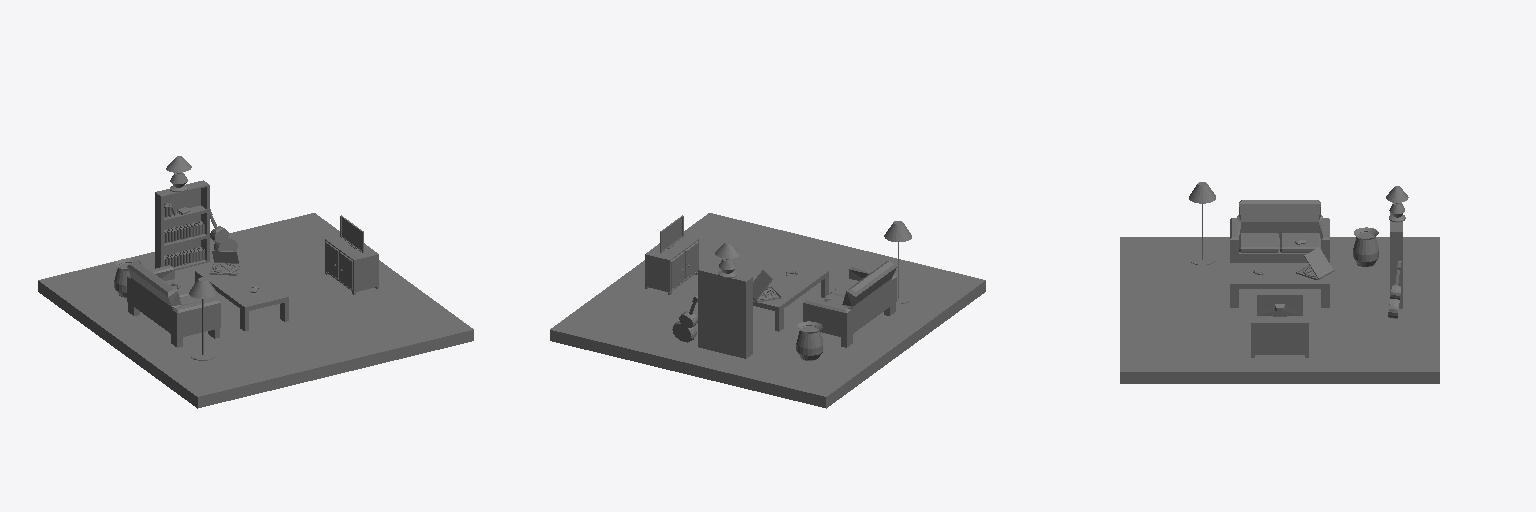
Rendered from LivingRoom.obj.
3 renders of one model, left to right at view 1: azimuth 30°, elevation 25°; view 2: azimuth 150°, elevation 25°; view 3: azimuth 270°, elevation 25°, orthographic.
Parts seen in each view (by area): view 1: pCube51, pCube4, pCube6, pCube5, pCube11, pCylinder2, pCylinder25, pCylinder1, pPipe5, pCylinder41; view 2: pCube51, pCube6, pCube4, pCube11, pCube5, pCylinder3, pCylinder41, pCylinder2, pCylinder1, pCylinder25, pPipe5; view 3: pCube51, pCube4, pCube5, pCube11, pPipe5, pCylinder3, pCube6, pCylinder2, pCylinder25, pCylinder1.
Part boxes in pixels (bbox=[...]): pCube51: bbox=[38, 213, 473, 408]; pCube4: bbox=[127, 261, 220, 347]; pCube6: bbox=[155, 180, 209, 269]; pCube5: bbox=[195, 261, 288, 331]; pCube11: bbox=[325, 236, 378, 294]; pCylinder2: bbox=[189, 277, 216, 360]; pCylinder25: bbox=[209, 250, 239, 275]; pCylinder1: bbox=[166, 156, 191, 192]; pPipe5: bbox=[340, 215, 363, 252]; pCylinder41: bbox=[210, 209, 237, 251]; pCube51: bbox=[550, 213, 985, 408]; pCube6: bbox=[698, 266, 752, 358]; pCube4: bbox=[803, 261, 896, 347]; pCube11: bbox=[645, 236, 698, 294]; pCube5: bbox=[753, 260, 828, 331]; pCylinder3: bbox=[796, 321, 822, 360]; pCylinder41: bbox=[672, 295, 697, 342]; pCylinder2: bbox=[884, 221, 911, 303]; pCylinder1: bbox=[715, 242, 739, 277]; pCylinder25: bbox=[753, 270, 781, 302]; pPipe5: bbox=[660, 215, 683, 252]; pCube51: bbox=[1120, 237, 1439, 383]; pCube4: bbox=[1230, 200, 1329, 262]; pCube5: bbox=[1230, 263, 1329, 307]; pCube11: bbox=[1251, 311, 1308, 357]; pPipe5: bbox=[1257, 294, 1302, 316]; pCylinder3: bbox=[1353, 227, 1378, 266]; pCube6: bbox=[1390, 213, 1402, 308]; pCylinder2: bbox=[1189, 182, 1215, 264]; pCylinder25: bbox=[1296, 247, 1334, 279]; pCylinder1: bbox=[1386, 186, 1408, 222].
Size of the model in its own units: 25.36 by 10.57 by 25.36.